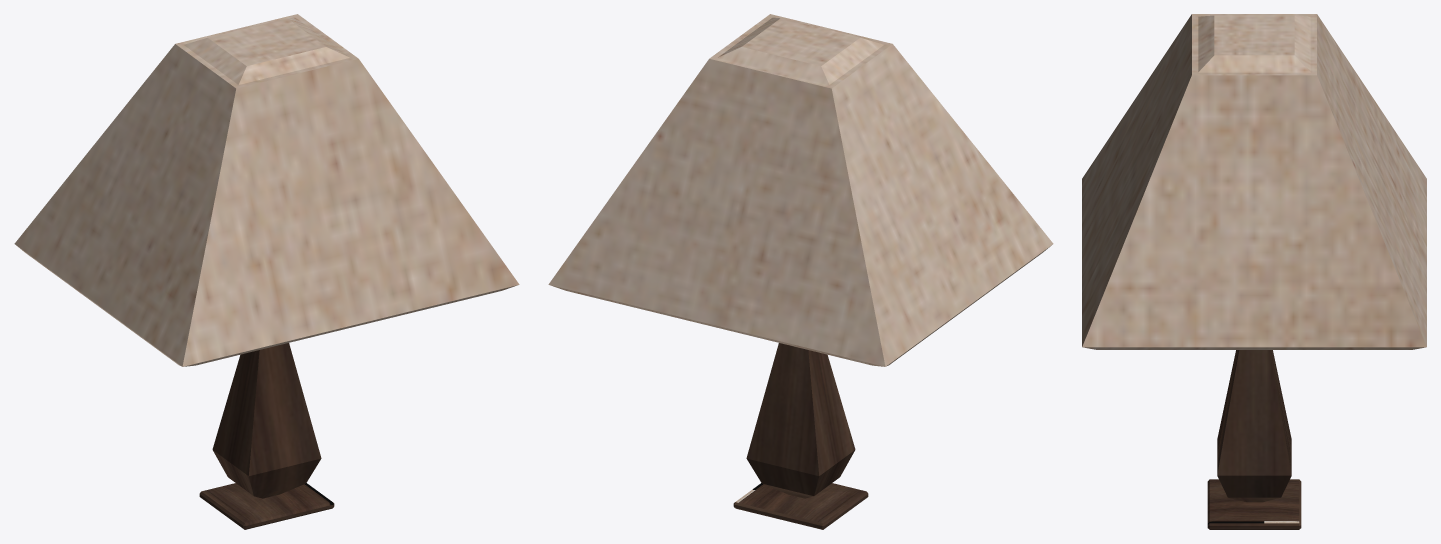
File: abajur.fbx
The picture shows the model from 3 angles, left to right: view 1: azimuth 30°, elevation 25°; view 2: azimuth 150°, elevation 25°; view 3: azimuth 270°, elevation 25°; orthographic projection. The views are drawn at different scales.
Visible parts, largest first — view 1: abajur; view 2: abajur; view 3: abajur.
Boxes of the visible parts, <box> form: abajur: <box>14,14,519,529</box>; abajur: <box>548,14,1053,529</box>; abajur: <box>1082,14,1426,529</box>.
Bounding box in the file's own units: 105 × 137 × 90.33.
